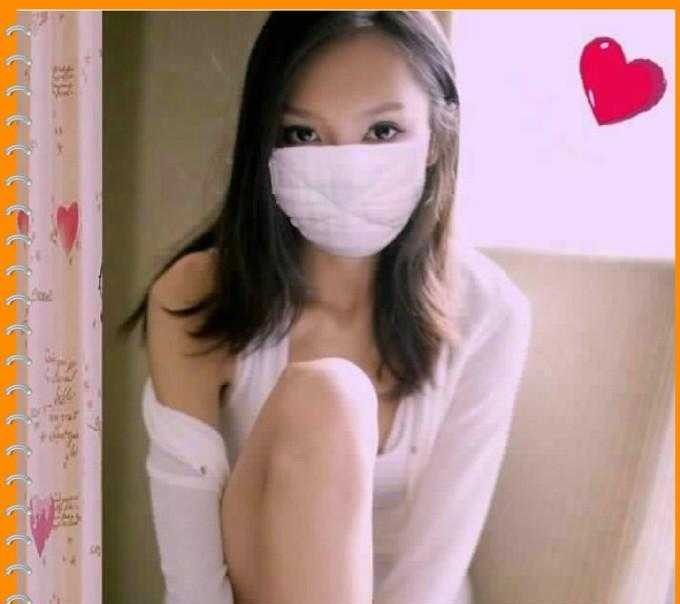face_mask: (266, 34, 430, 255)
